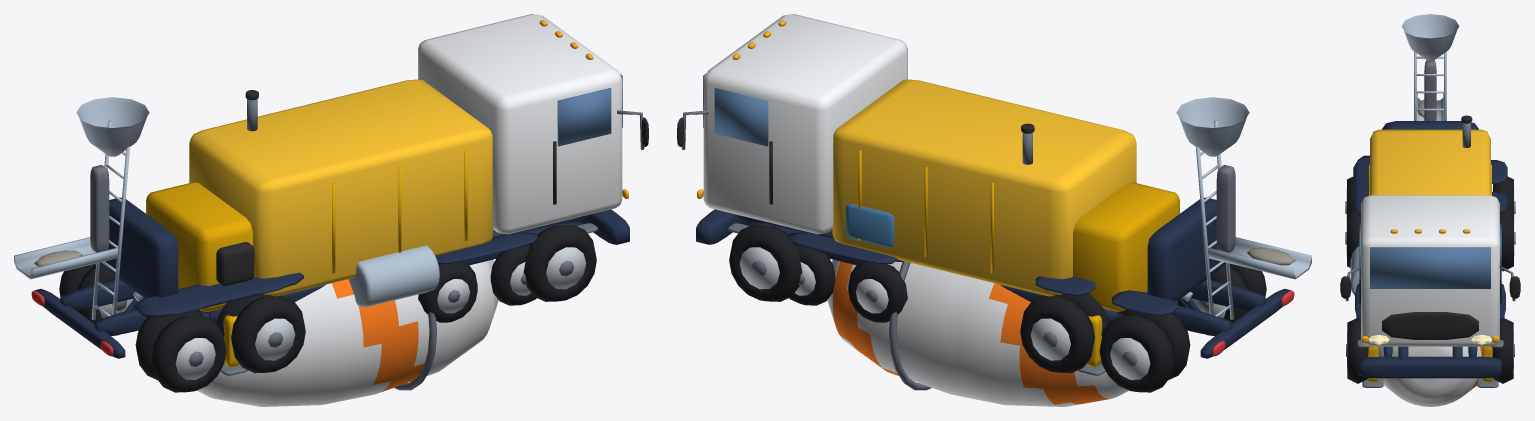
File: plant.glb
3 renders of one model, left to right at view 1: azimuth 30°, elevation 25°; view 2: azimuth 150°, elevation 25°; view 3: azimuth 270°, elevation 25°, orthographic. The views are drawn at different scales.
Parts seen in each view (by area): view 1: Truck, LinePump, TruckDrum; view 2: Truck, LinePump, TruckDrum; view 3: Truck, LinePump, TruckDrum.
Part boxes in pixels (box(x1,y1,x2,y2)): Truck: box(14, 14, 648, 392); LinePump: box(124, 79, 581, 375); TruckDrum: box(197, 259, 498, 406); Truck: box(677, 14, 1311, 392); LinePump: box(744, 79, 1201, 375); TruckDrum: box(827, 259, 1128, 406); Truck: box(1340, 14, 1520, 383); LinePump: box(1355, 115, 1505, 387); TruckDrum: box(1378, 346, 1482, 406).
Bounding box in the file's own units: 8.6 × 4.89 × 2.98.
